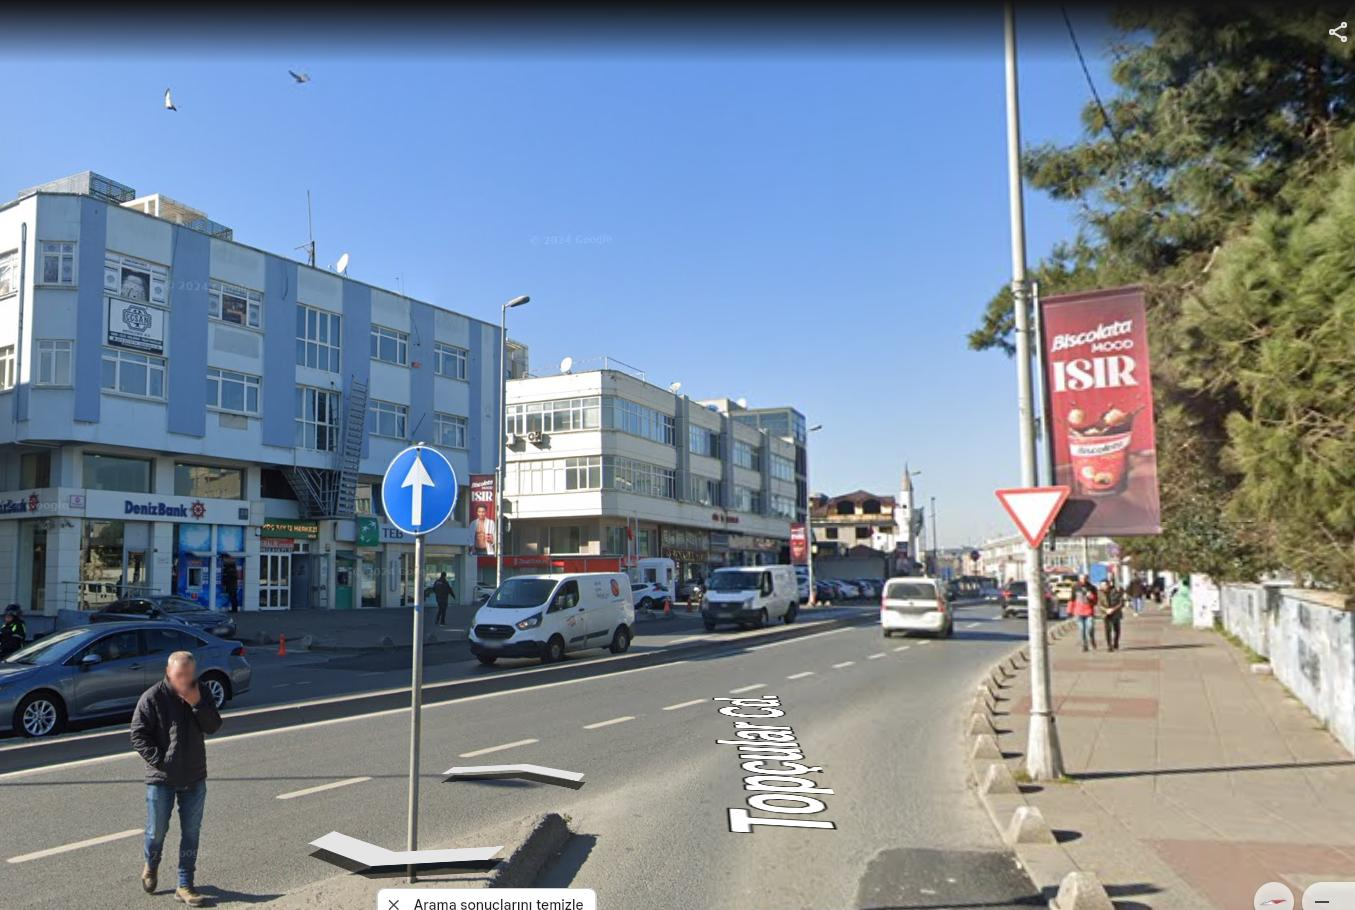forward: (383, 444, 465, 536)
